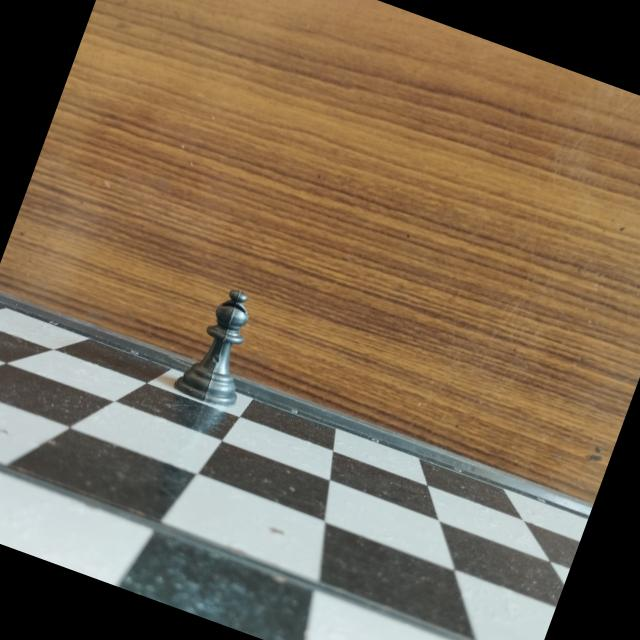Black Bishop: (170, 276, 278, 418)
